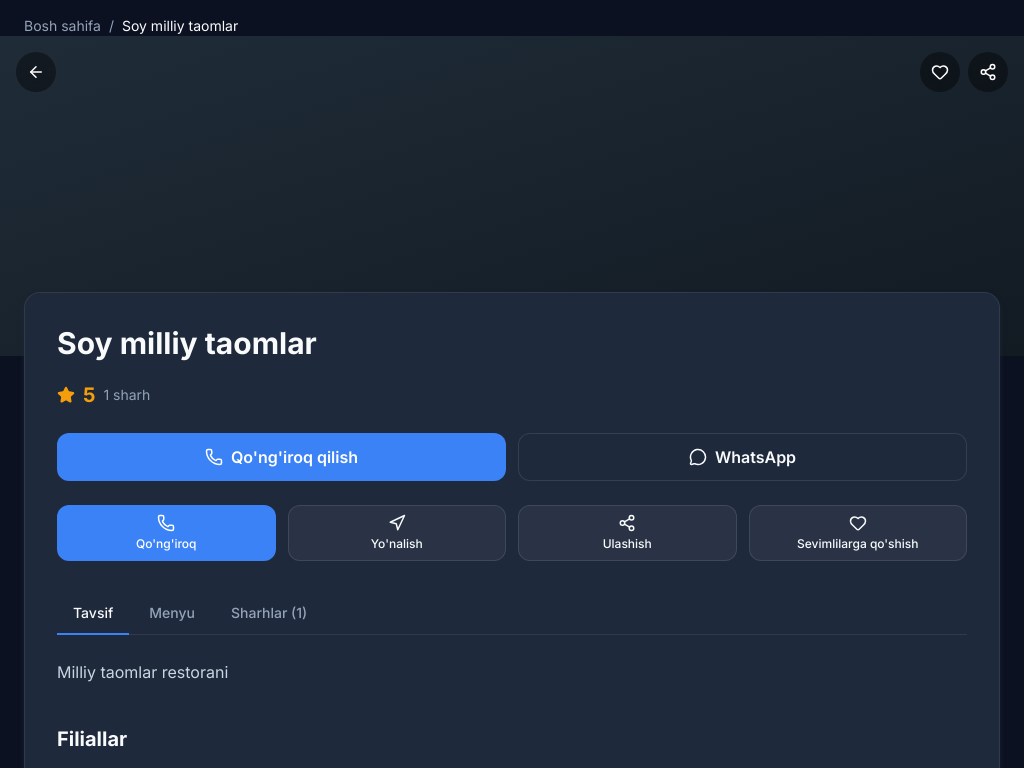
Test: Catalog management control on the business page › is hidden from a SUPPORT on a business it doesn't own
Click the button "Menyu" at (172, 614), box [133,593,211,635]
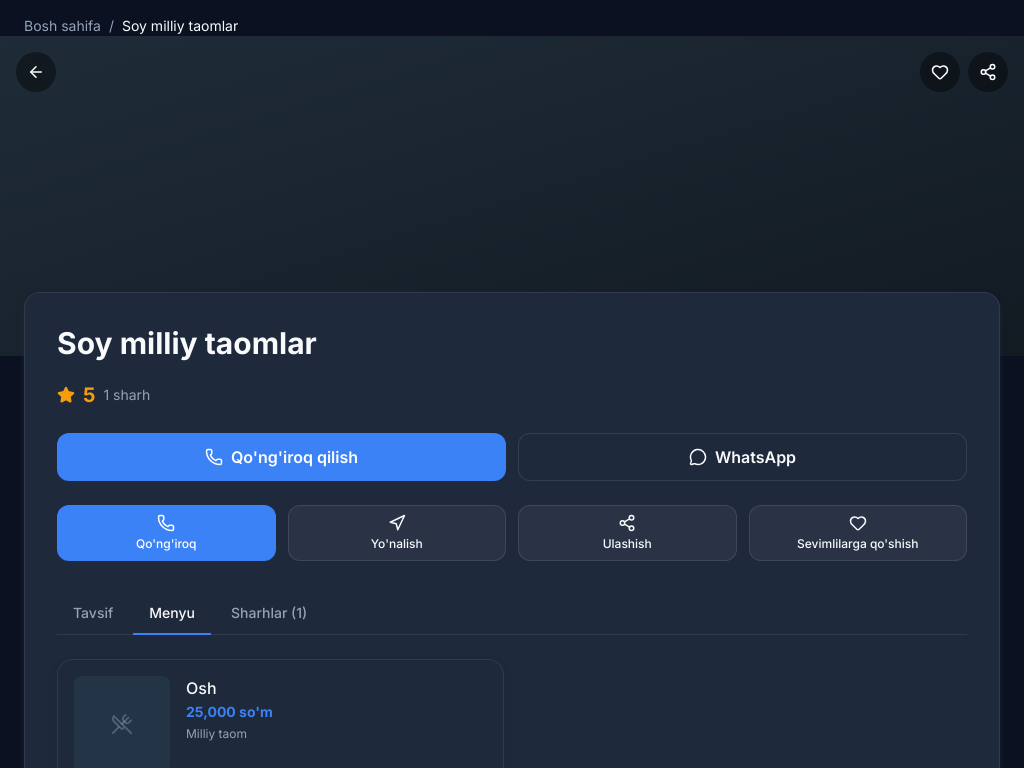
Expected: the text "Osh" is shown, [186,676,216,700]
